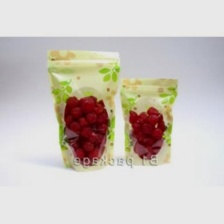snack: (41, 43, 126, 174), (116, 73, 183, 170)
